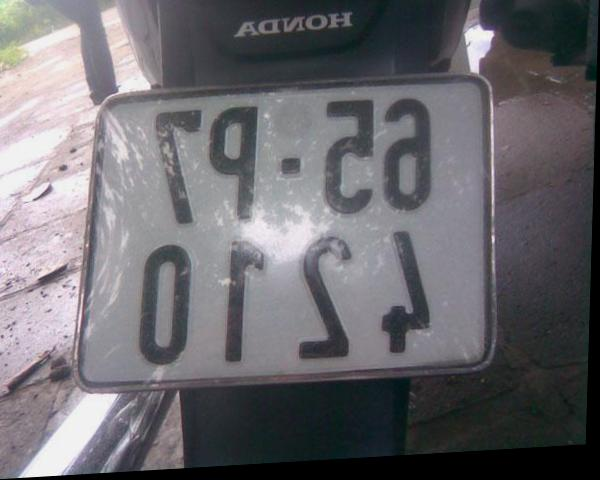License_Plate: (72, 75, 483, 390)
